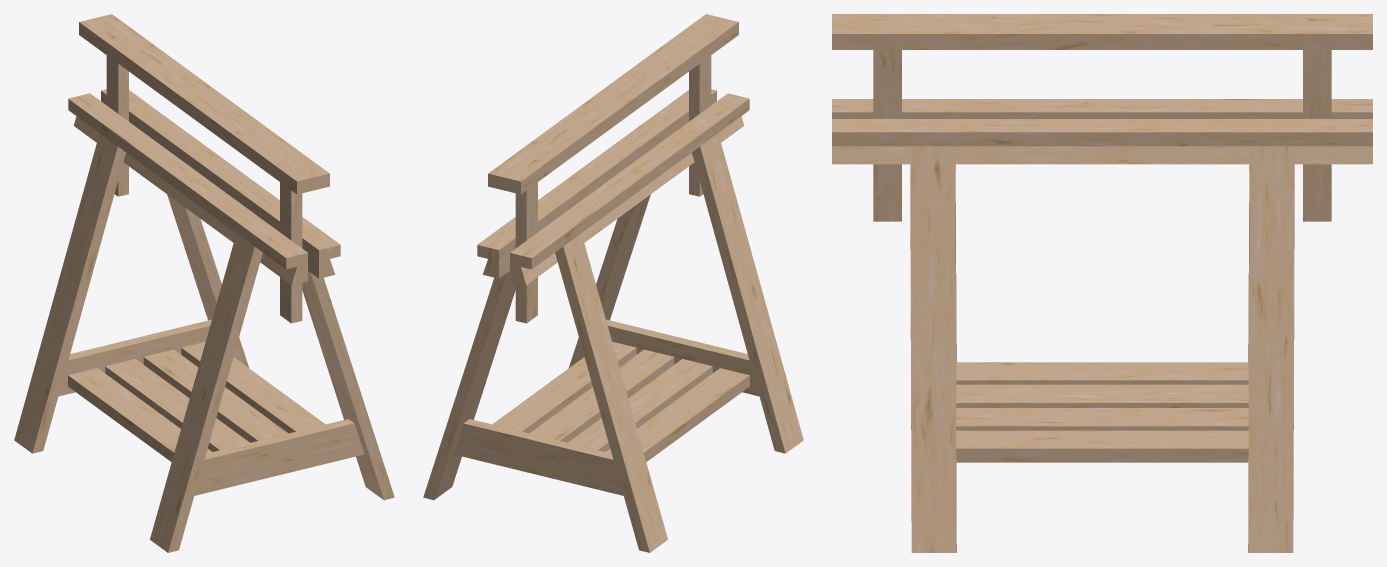
Rendered from Trestle.glb.
The picture shows the model from 3 angles, left to right: view 1: azimuth 30°, elevation 25°; view 2: azimuth 150°, elevation 25°; view 3: azimuth 270°, elevation 25°; orthographic projection. The views are drawn at different scales.
Visible parts, largest first — view 1: Trestle; view 2: Trestle; view 3: Trestle.
Part boxes in pixels (left/top/right/bottom): Trestle: left=14, top=14, right=394, bottom=552; Trestle: left=423, top=14, right=803, bottom=552; Trestle: left=832, top=14, right=1372, bottom=552.
Bounding box in the file's own units: 5.8 × 9.07 × 9.66.
Materials: 1 (1 with a texture image).
